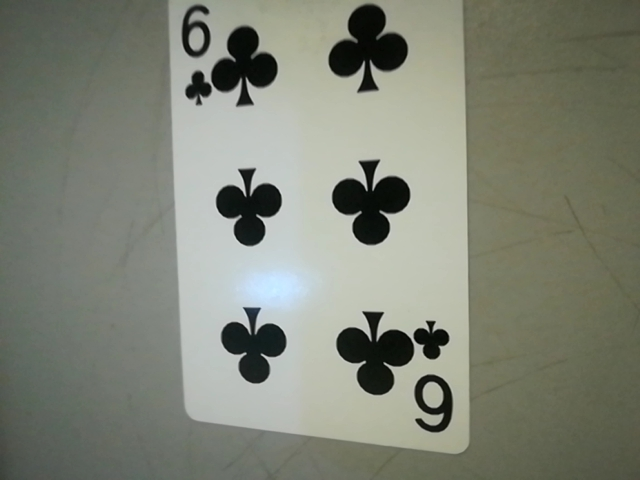mh 6: (406, 313, 464, 441)
